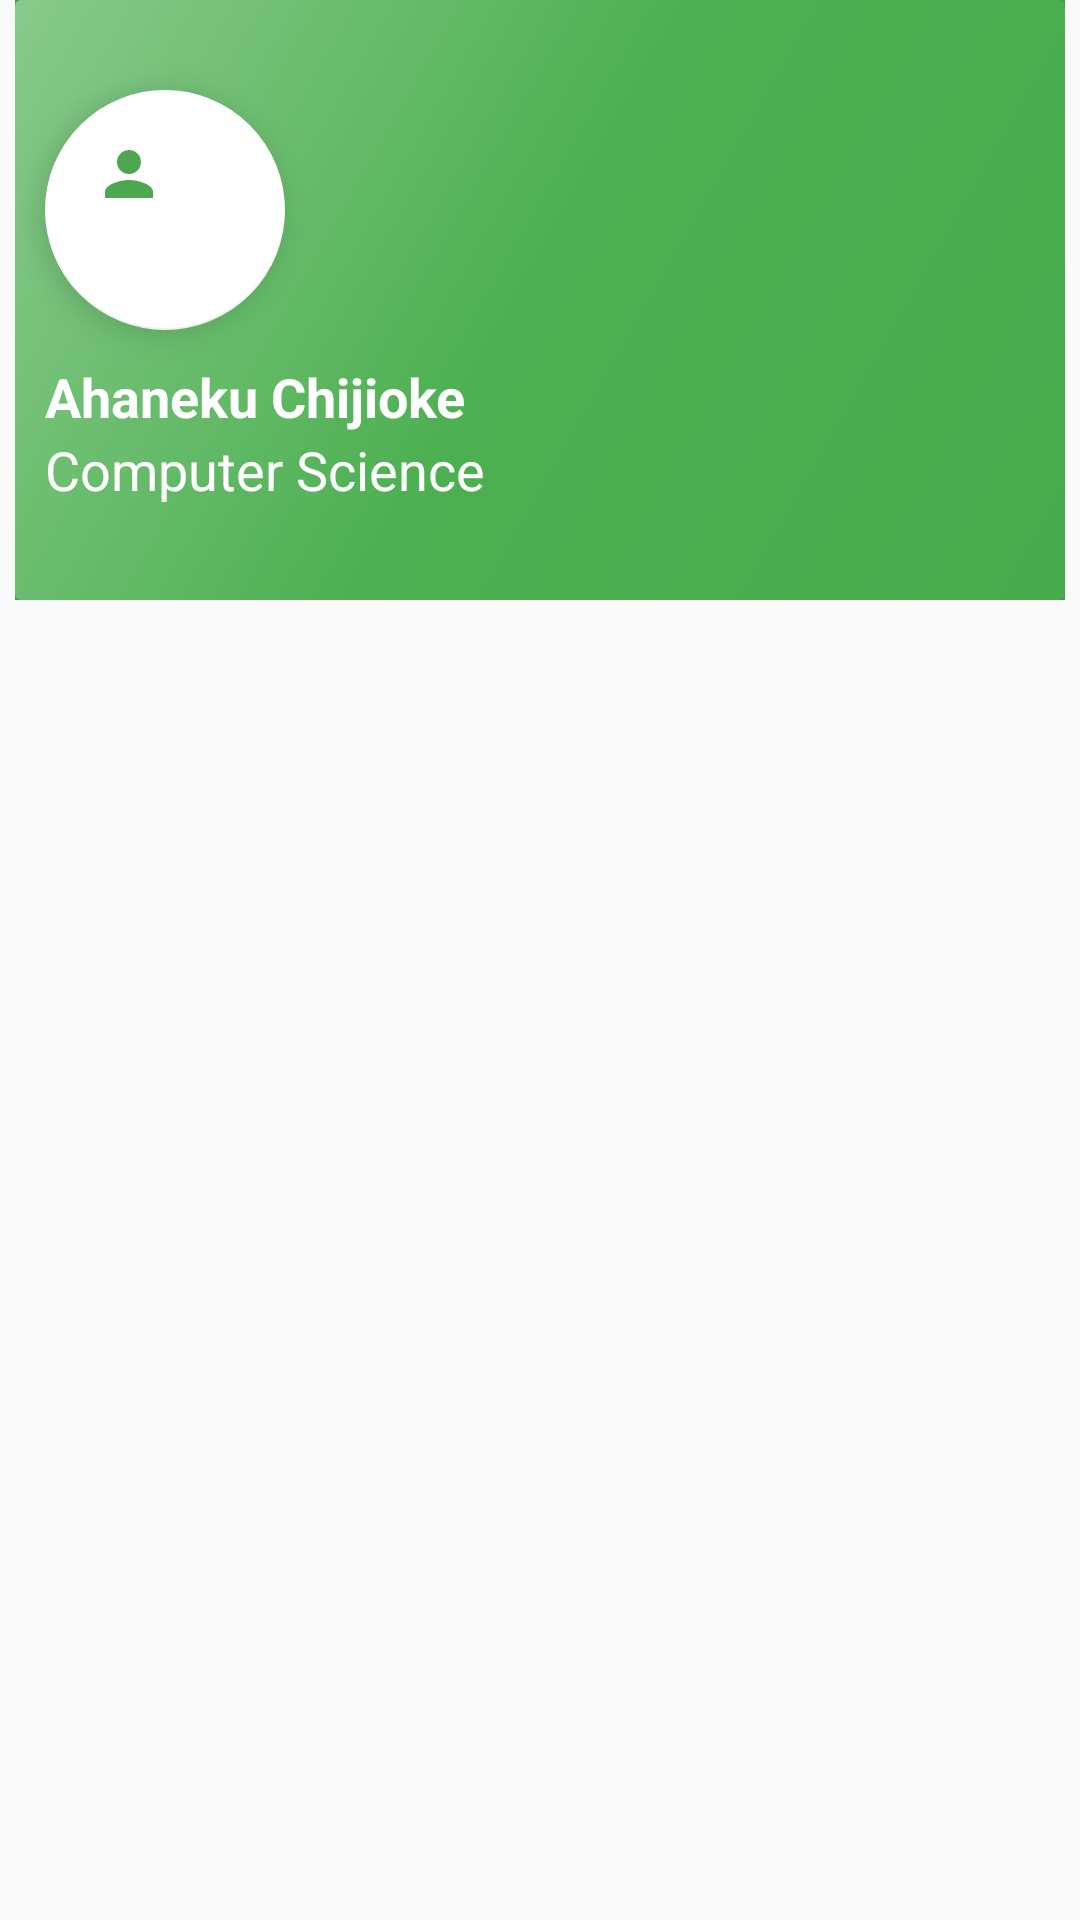

Screen size 1080 × 1920. Icon name, then its center in pixels as [x,y]:
user Image: [165,210]
